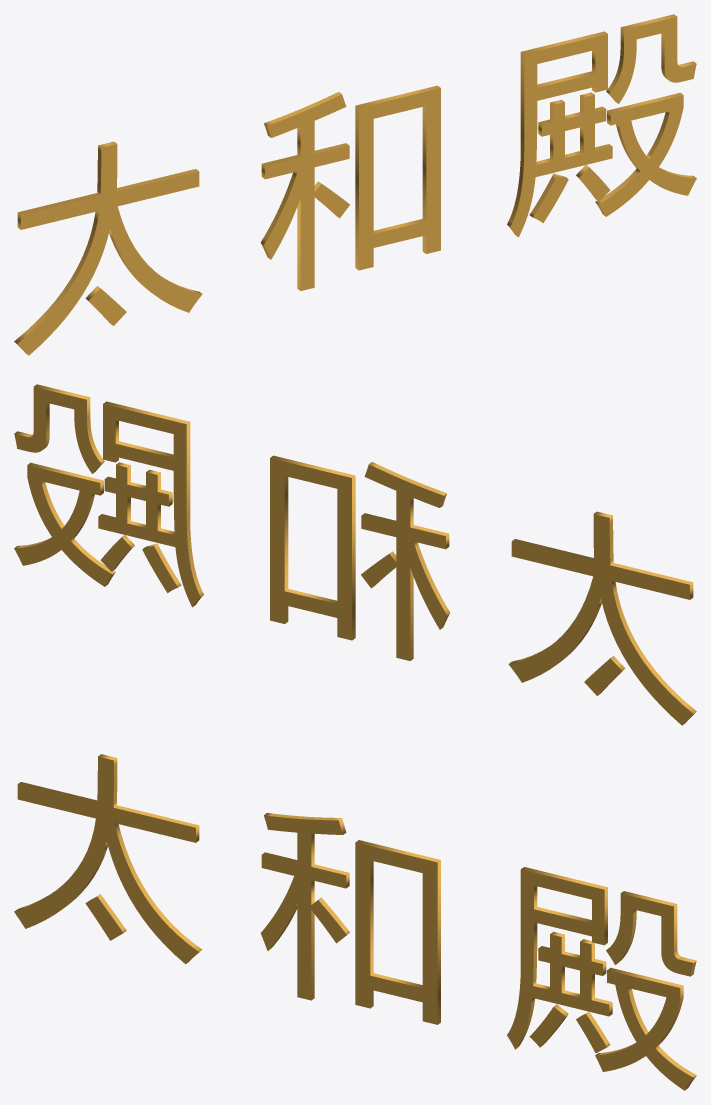
File: SM_00_______Hall_of_Supreme_Harmony.fbx
3 renders of one model, top to bottom at view 1: azimuth 30°, elevation 25°; view 2: azimuth 150°, elevation 25°; view 3: azimuth 330°, elevation 25°, orthographic.
Parts seen in each view (by area): view 1: 太和殿 · Hall of Supreme Harmony; view 2: 太和殿 · Hall of Supreme Harmony; view 3: 太和殿 · Hall of Supreme Harmony.
Boxes of the visible parts, left/top/right/bottom form: 太和殿 · Hall of Supreme Harmony: left=14, top=14, right=696, bottom=355; 太和殿 · Hall of Supreme Harmony: left=14, top=384, right=696, bottom=725; 太和殿 · Hall of Supreme Harmony: left=14, top=754, right=696, bottom=1090.
Bounding box in the file's own units: 185 × 1.6 × 50.05.
